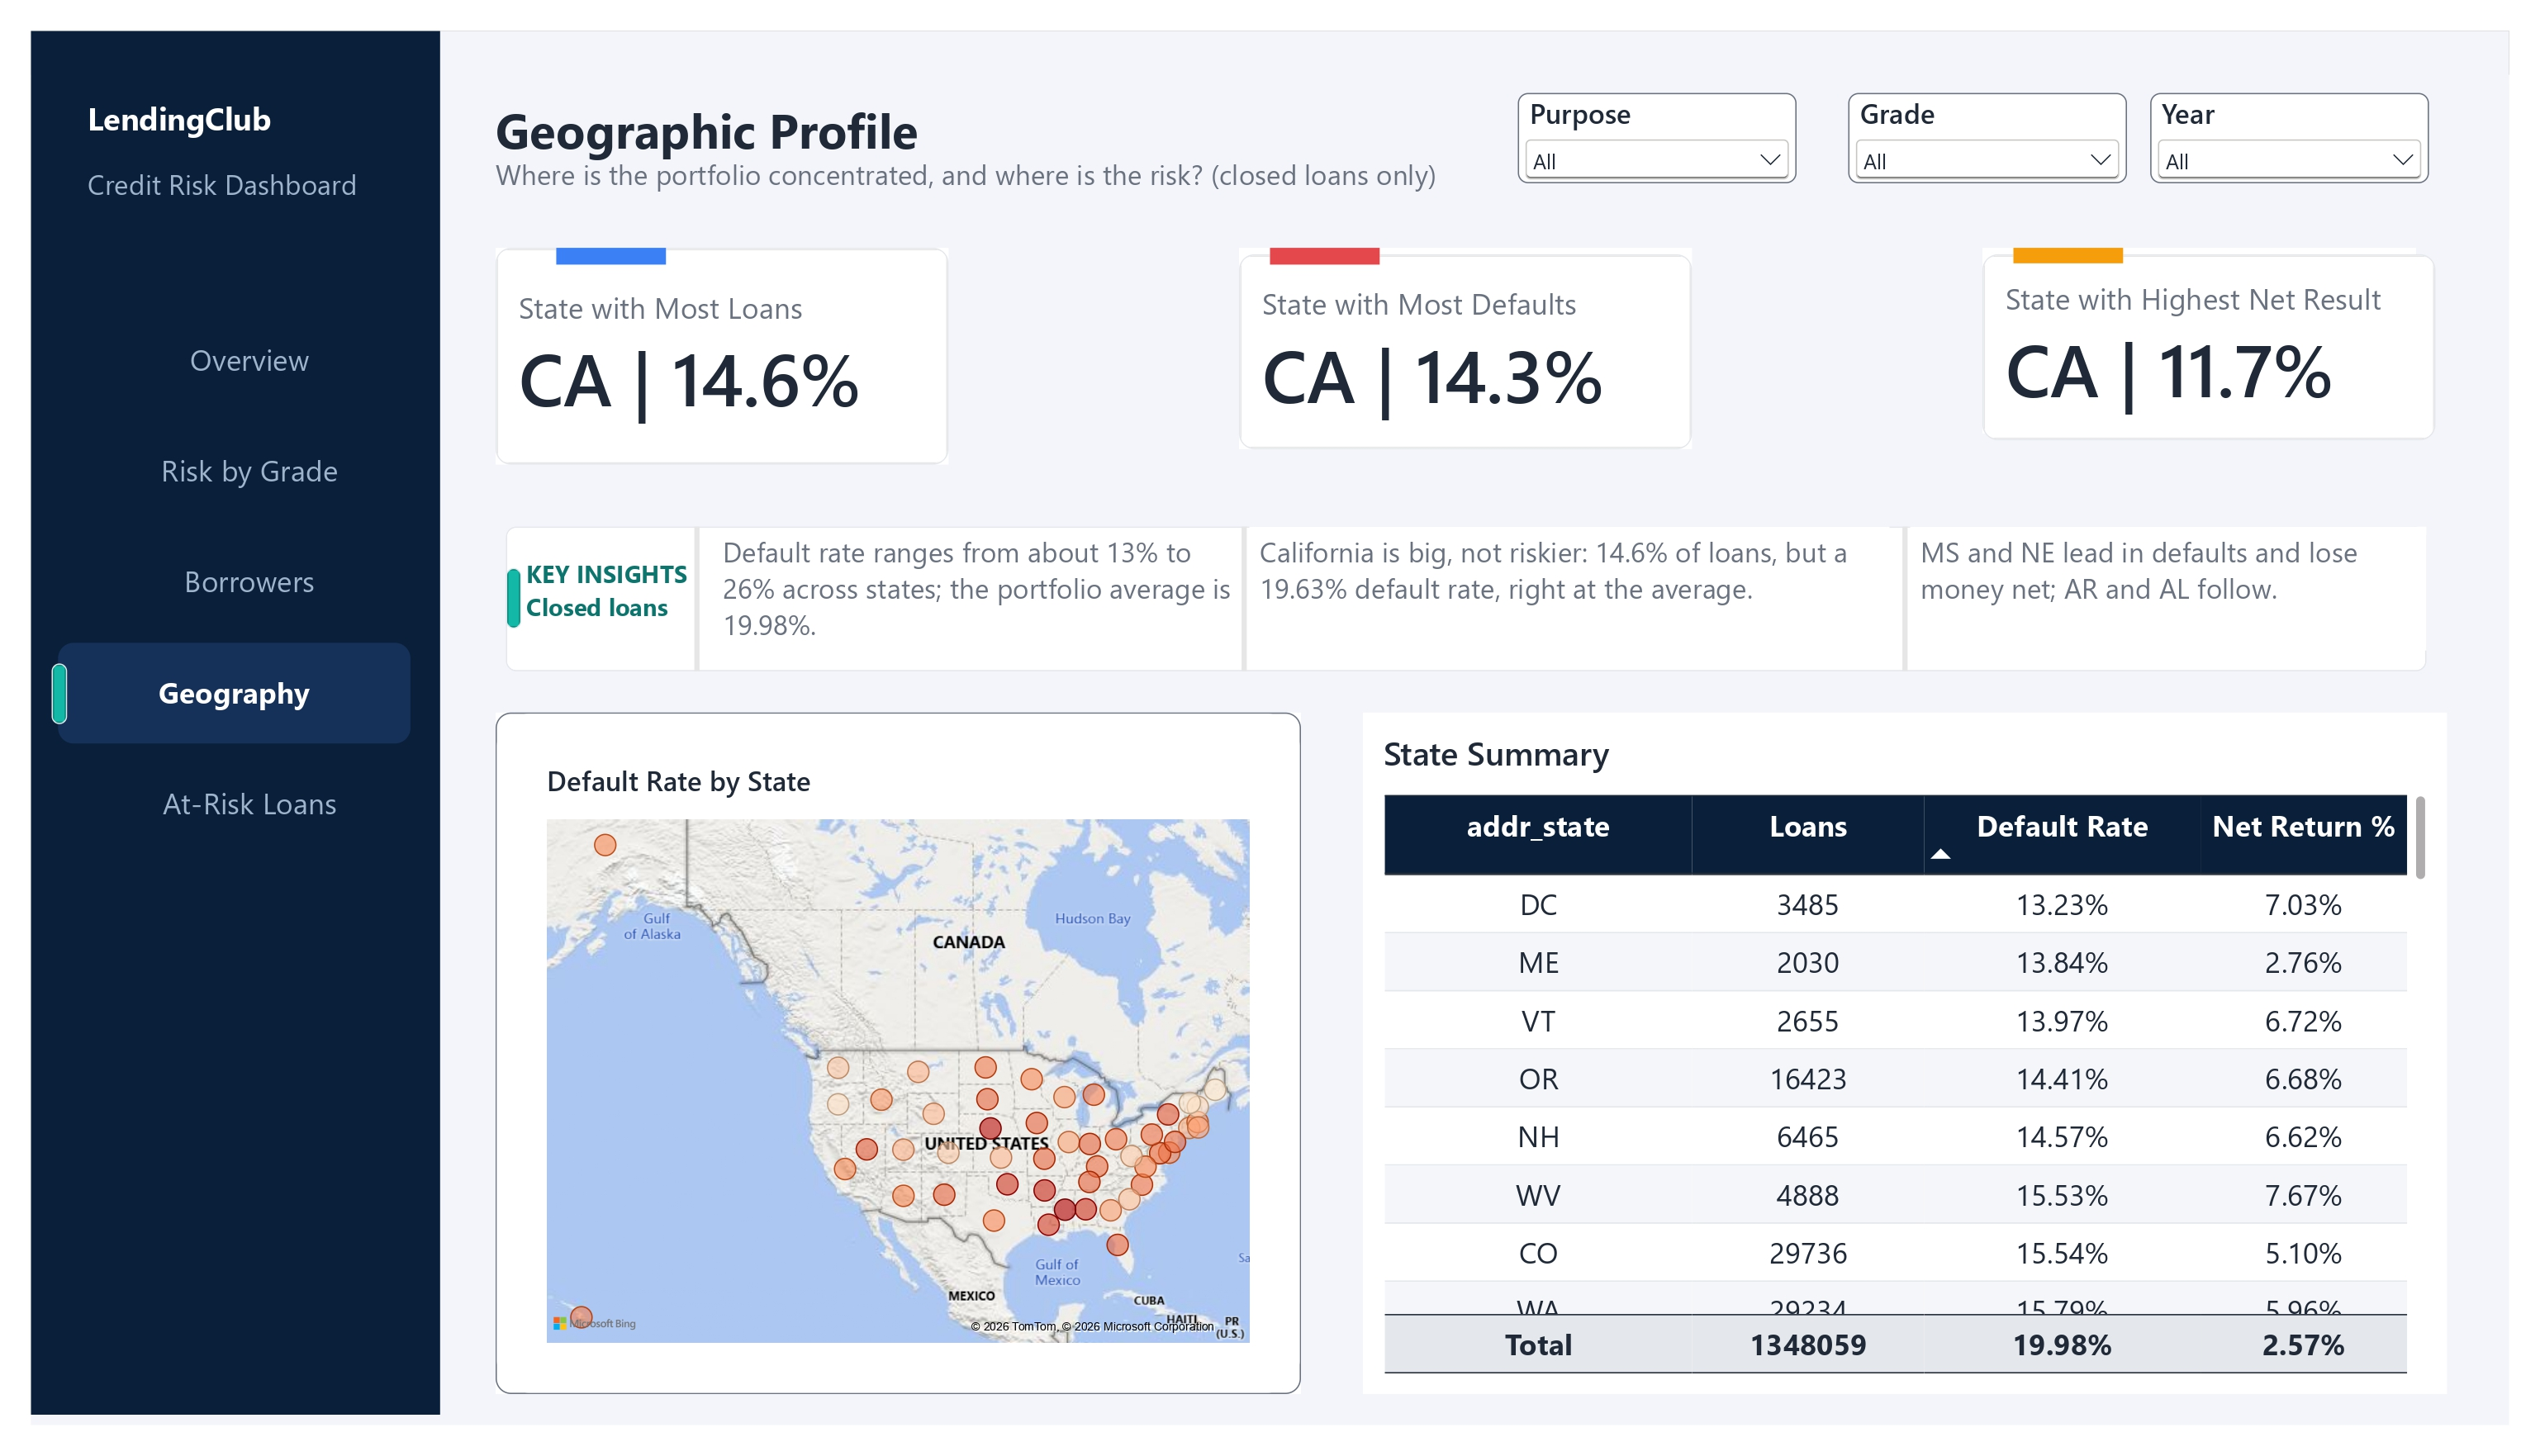

Layout of this report page (visuals, bound fields, positions):
{"tool":"powerbi","page":{"name":"Geography","canvas":[1920,1080],"ordinal":3},"visuals":[{"type":"shape","box":[0,-8,317,1080],"z":0},{"type":"cardVisual","fields":{"Data":["loans_dashboard.State with Most Loans"]},"box":[360,168,351,168],"z":0,"group":"g3"},{"type":"cardVisual","fields":{"Data":["loans_dashboard.State with Highest Net Result"]},"box":[1512,173,351.2,144],"z":0,"group":"g2"},{"type":"cardVisual","fields":{"Data":["loans_dashboard.State with Most Defaults"]},"box":[936,173.2,351,151.2],"z":0,"group":"g1"},{"type":"textbox","box":[44,51,245,57],"z":1000},{"type":"shape","box":[406.7,168,85,12.6],"z":1000,"group":"g3"},{"type":"shape","box":[959.8,168,85,12.6],"z":1000,"group":"g1"},{"type":"shape","box":[1535.8,168,85,12],"z":1000,"group":"g2"},{"type":"textbox","box":[44,104,245,44],"z":2000},{"type":"pageNavigator","box":[21,216,273,426],"z":3000},{"type":"shape","box":[16,490,12,47],"z":4000},{"type":"textbox","box":[360,51,552,72],"z":5000},{"type":"textbox","box":[360,96,744,48],"z":6000},{"type":"slicer","fields":{"Values":["loans_dashboard.issue_d.Variation.Date Hierarchy.Year"]},"box":[1642,48,216,70],"z":7000},{"type":"group","id":"g1","title":"Group 1","box":[936,168,351,156.5],"z":8000},{"type":"group","id":"g2","title":"Group 1","box":[1512,168,336,144],"z":9000},{"type":"group","id":"g3","title":"Group 1","box":[360,168,351,168],"z":10000},{"type":"slicer","fields":{"Values":["loans_dashboard.grade"]},"box":[1408,48,216,70],"z":11000},{"type":"slicer","fields":{"Values":["loans_dashboard.purpose"]},"box":[1152,48,216,70],"z":12000},{"type":"shape","box":[360,528,624,528],"z":13000,"group":"g4"},{"type":"tableEx","title":"State Summary","fields":{"Values":["loans_dashboard.addr_state","CountNonNull(loans_dashboard.id)","loans_dashboard.Charge-off Rate per 100 (closed loans)","loans_dashboard.Net Return %"]},"box":[1032,528,840,528],"z":13000},{"type":"shape","box":[368,384,1488,112],"z":14000},{"type":"shape","box":[368,416,12,47],"z":15000},{"type":"textbox","box":[384,408,144,72],"z":16000},{"type":"textbox","box":[1456,384,400,96],"z":17000},{"type":"map","title":"Default Rate by State","fields":{"Category":["loans_dashboard.addr_state"]},"box":[384,552,576,480],"z":17005,"group":"g4"},{"type":"textbox","box":[944,384,496,96],"z":18000},{"type":"textbox","box":[528,384,408,96],"z":19000},{"type":"shape","box":[928,384,24,112],"z":20000},{"type":"shape","box":[504,384,24,112],"z":21000},{"type":"shape","box":[1440,384,24,112],"z":22000},{"type":"group","id":"g4","title":"Group 2","box":[360,528,624,528],"z":23000}]}

Visuals, with their boxes on the page's 1920x1080 design canvas (x1, y1, x2, y2). These are canvas units, not pixel positions in the 2540x1456 screenshot, which may show the page scaled, cropped or inside an application window:
shape: Rect(0, -8, 317, 1072)
cardVisual - loans_dashboard.State with Most Loans: Rect(360, 168, 711, 336)
cardVisual - loans_dashboard.State with Highest Net Result: Rect(1512, 173, 1863, 317)
cardVisual - loans_dashboard.State with Most Defaults: Rect(936, 173, 1287, 324)
textbox: Rect(44, 51, 289, 108)
shape: Rect(407, 168, 492, 181)
shape: Rect(960, 168, 1045, 181)
shape: Rect(1536, 168, 1621, 180)
textbox: Rect(44, 104, 289, 148)
pageNavigator: Rect(21, 216, 294, 642)
shape: Rect(16, 490, 28, 537)
textbox: Rect(360, 51, 912, 123)
textbox: Rect(360, 96, 1104, 144)
slicer - loans_dashboard.issue_d.Variation.Date Hierarchy.Year: Rect(1642, 48, 1858, 118)
"Group 1" group: Rect(936, 168, 1287, 324)
"Group 1" group: Rect(1512, 168, 1848, 312)
"Group 1" group: Rect(360, 168, 711, 336)
slicer - loans_dashboard.grade: Rect(1408, 48, 1624, 118)
slicer - loans_dashboard.purpose: Rect(1152, 48, 1368, 118)
shape: Rect(360, 528, 984, 1056)
"State Summary" tableEx: Rect(1032, 528, 1872, 1056)
shape: Rect(368, 384, 1856, 496)
shape: Rect(368, 416, 380, 463)
textbox: Rect(384, 408, 528, 480)
textbox: Rect(1456, 384, 1856, 480)
"Default Rate by State" map: Rect(384, 552, 960, 1032)
textbox: Rect(944, 384, 1440, 480)
textbox: Rect(528, 384, 936, 480)
shape: Rect(928, 384, 952, 496)
shape: Rect(504, 384, 528, 496)
shape: Rect(1440, 384, 1464, 496)
"Group 2" group: Rect(360, 528, 984, 1056)
